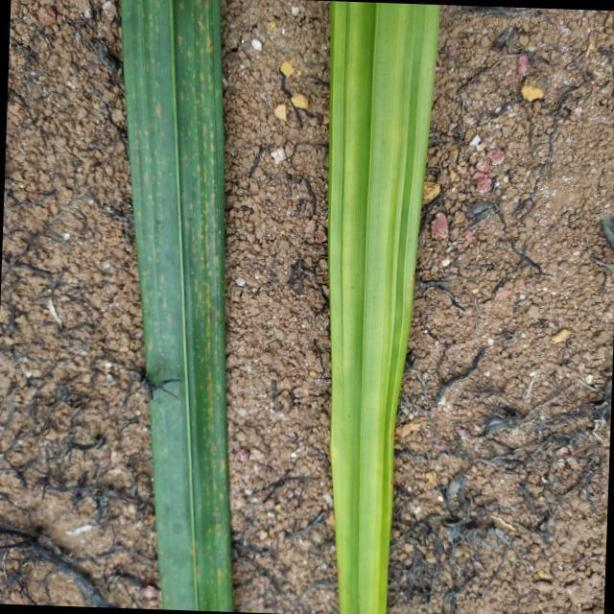nitrogen: (333, 0, 441, 614)
